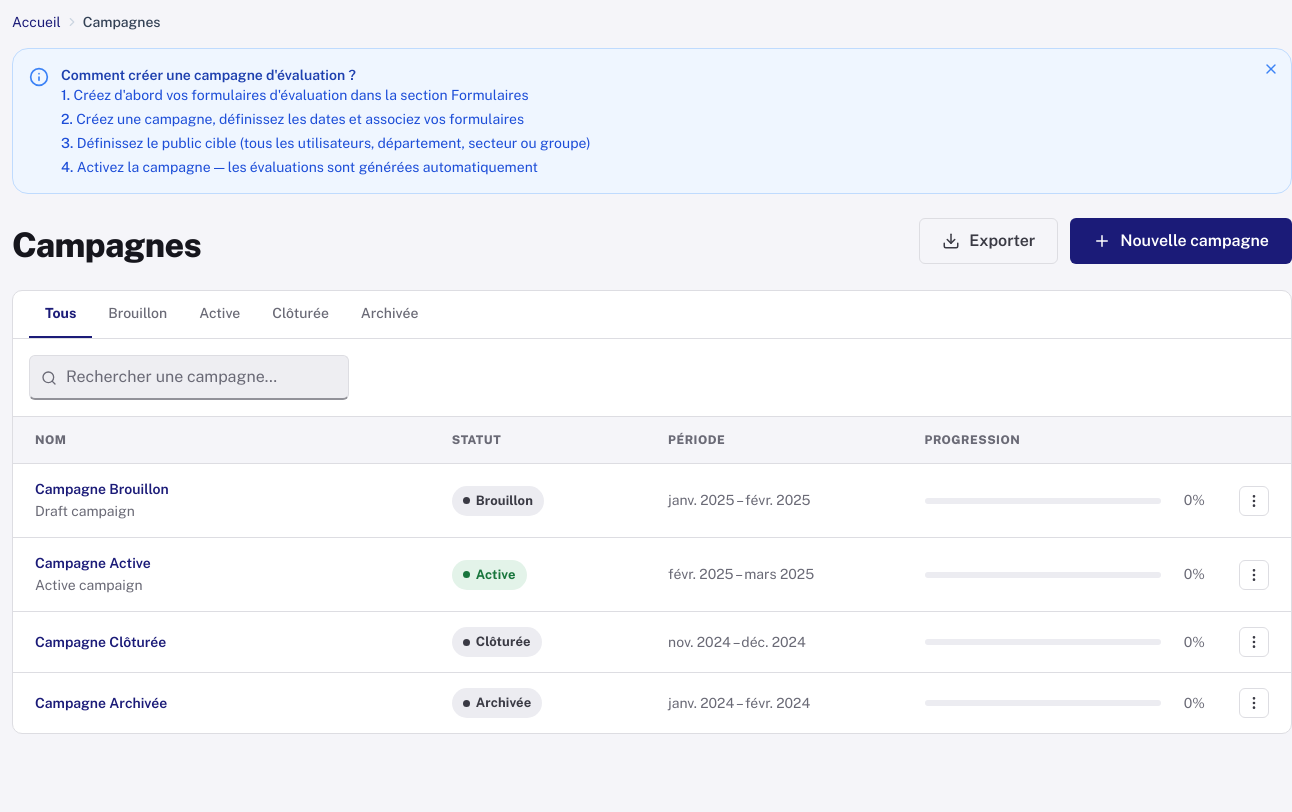
Test: CampaignsPage › affiche la liste, filtre et recherche les campagnes
Expected: the number of links "Campagne Active" is 1, [35,555,151,571]
Expected: the number of links "Campagne Brouillon" is 1, [35,481,169,497]
Click the button "Brouillon".
click(138, 314)  # box [92,291,183,338]
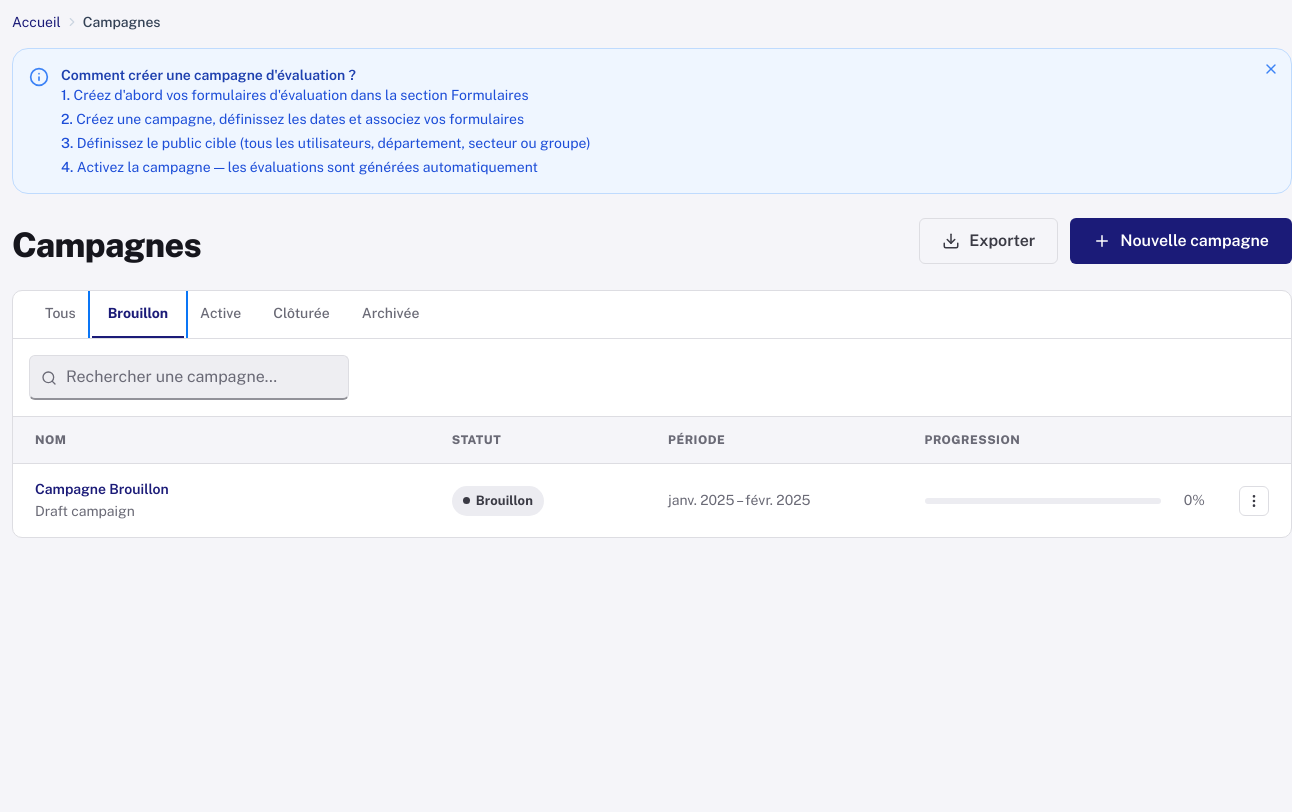
Expected: the number of links "Campagne Brouillon" is 1, [35,481,169,497]
Result: no links "Campagne Active" are shown
Click the button "Tous".
click(60, 314)  # box [29,291,92,338]
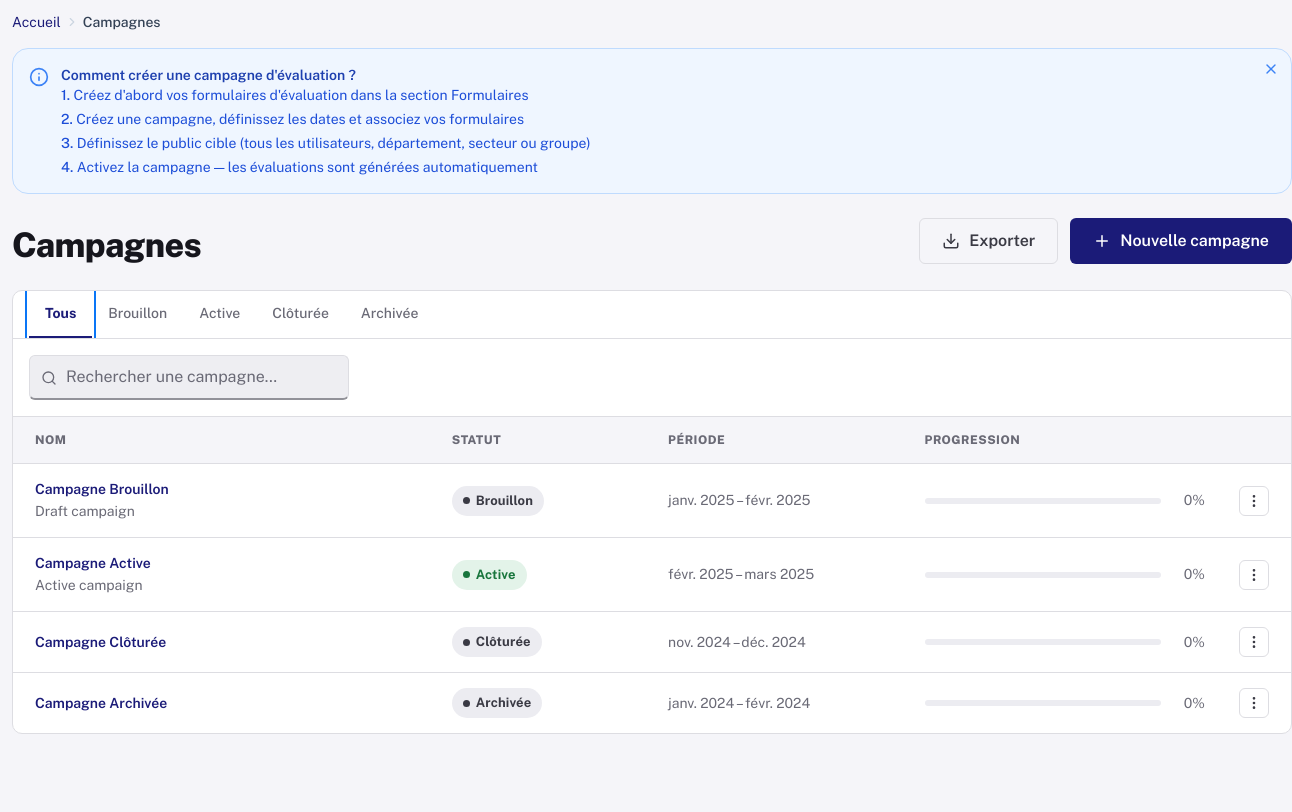
Type "active" into the field with placeholder "Rechercher une campagne…".
click(189, 378); type("active")  # box [29,355,349,400]
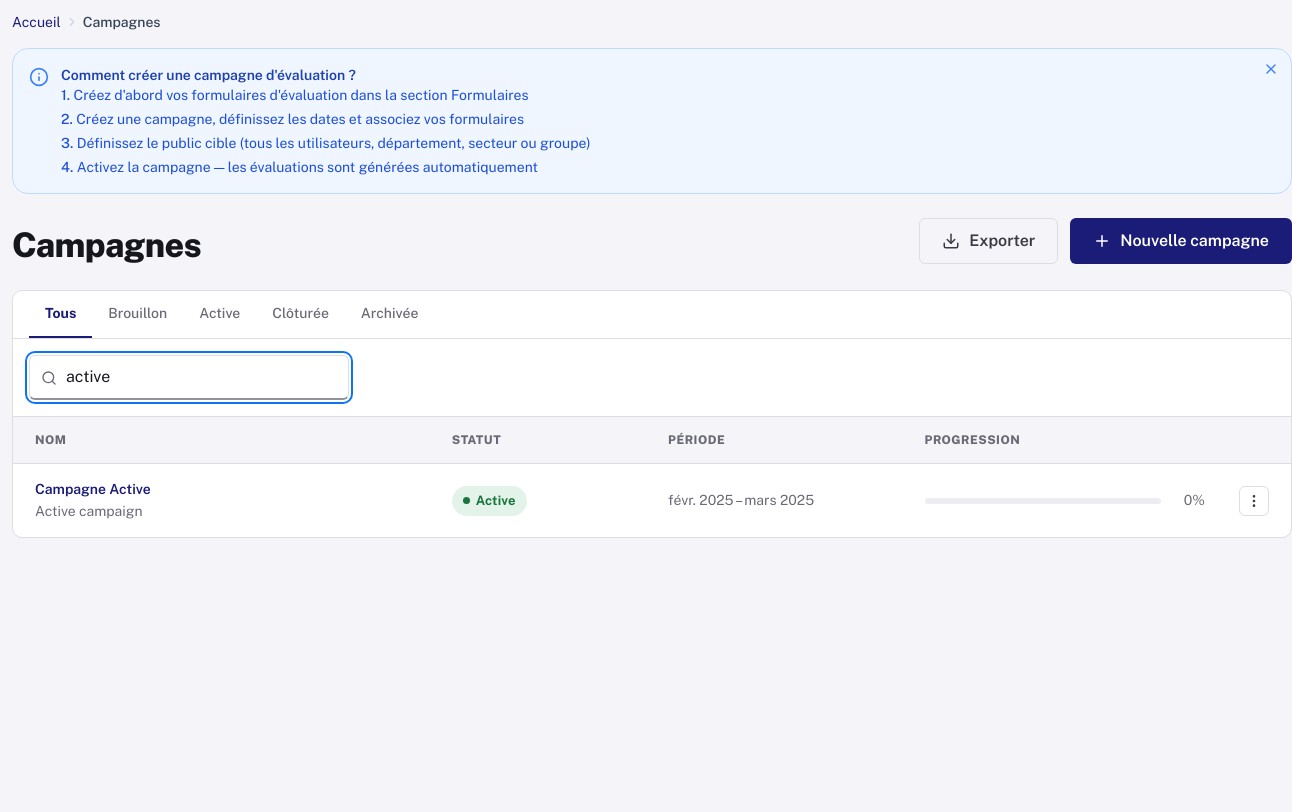
Result: the number of links "Campagne Active" is 1 at [35,481,151,497]
Result: no links "Campagne Brouillon" are shown
